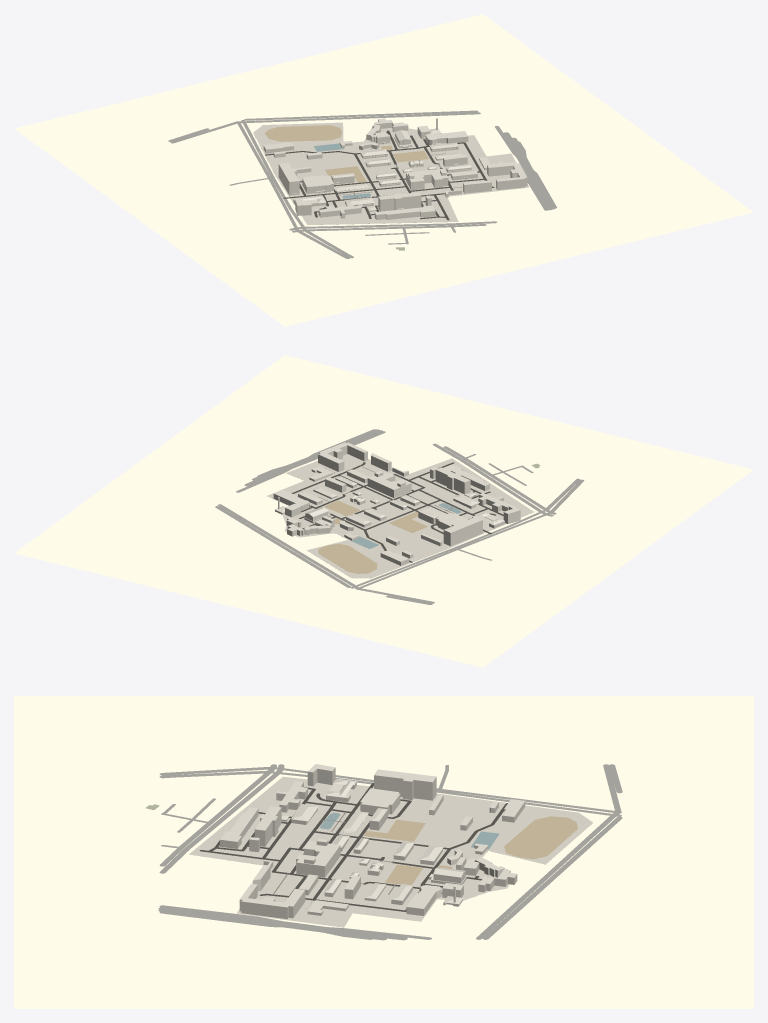
Rendered from xingshu-campus.glb.
3 views of the same model, one above another, from view 1: azimuth 30°, elevation 25°; view 2: azimuth 150°, elevation 25°; view 3: azimuth 270°, elevation 25° (orthographic). The views are drawn at different scales.
Visible parts, largest first — view 1: S14_Xuan_Paper_Backdrop, layer__campus-ground, layer__external-roads, layer__internal-roads, layer__sports, feature__xs-bldg-0022, feature__xs-bldg-0008, feature__xs-bldg-0020, feature__xs-bldg-0019, feature__xs-bldg-0033, feature__xs-bldg-0001; view 2: S14_Xuan_Paper_Backdrop, layer__campus-ground, layer__external-roads, layer__sports, layer__internal-roads, feature__xs-bldg-0022, feature__xs-bldg-0008, feature__xs-bldg-0033, feature__xs-bldg-0020; view 3: S14_Xuan_Paper_Backdrop, layer__campus-ground, layer__external-roads, layer__sports, layer__internal-roads, feature__xs-bldg-0033, feature__xs-bldg-0022, feature__xs-bldg-0008, feature__xs-bldg-0001, feature__xs-bldg-0019, feature__xs-bldg-0020, feature__xs-bldg-0015 (+4 smaller).
Boxes of the visible parts, bbox=[...] form: S14_Xuan_Paper_Backdrop: bbox=[14, 14, 753, 326]; layer__campus-ground: bbox=[253, 122, 529, 225]; layer__external-roads: bbox=[168, 110, 556, 258]; layer__internal-roads: bbox=[265, 130, 494, 220]; layer__sports: bbox=[264, 125, 428, 182]; feature__xs-bldg-0022: bbox=[487, 162, 527, 189]; feature__xs-bldg-0008: bbox=[406, 168, 448, 190]; feature__xs-bldg-0020: bbox=[378, 192, 421, 211]; feature__xs-bldg-0019: bbox=[374, 205, 435, 219]; feature__xs-bldg-0033: bbox=[278, 162, 299, 195]; feature__xs-bldg-0001: bbox=[302, 175, 333, 193]; S14_Xuan_Paper_Backdrop: bbox=[14, 355, 753, 667]; layer__campus-ground: bbox=[267, 454, 533, 578]; layer__external-roads: bbox=[215, 429, 584, 604]; layer__sports: bbox=[318, 500, 427, 573]; layer__internal-roads: bbox=[291, 462, 503, 562]; feature__xs-bldg-0022: bbox=[318, 442, 367, 471]; feature__xs-bldg-0008: bbox=[367, 471, 411, 497]; feature__xs-bldg-0033: bbox=[443, 516, 482, 546]; feature__xs-bldg-0020: bbox=[435, 467, 470, 494]; S14_Xuan_Paper_Backdrop: bbox=[14, 696, 753, 1008]; layer__campus-ground: bbox=[189, 776, 592, 927]; layer__external-roads: bbox=[158, 764, 622, 940]; layer__sports: bbox=[363, 816, 577, 885]; layer__internal-roads: bbox=[199, 783, 507, 911]; feature__xs-bldg-0033: bbox=[374, 769, 436, 800]; feature__xs-bldg-0022: bbox=[239, 883, 305, 919]; feature__xs-bldg-0008: bbox=[296, 838, 340, 877]; feature__xs-bldg-0001: bbox=[360, 788, 400, 815]; feature__xs-bldg-0019: bbox=[220, 807, 258, 848]; feature__xs-bldg-0020: bbox=[254, 806, 281, 846]; feature__xs-bldg-0015: bbox=[406, 885, 441, 915].
Bounding box in the file's own units: 1075 × 30.06 × 1075.
